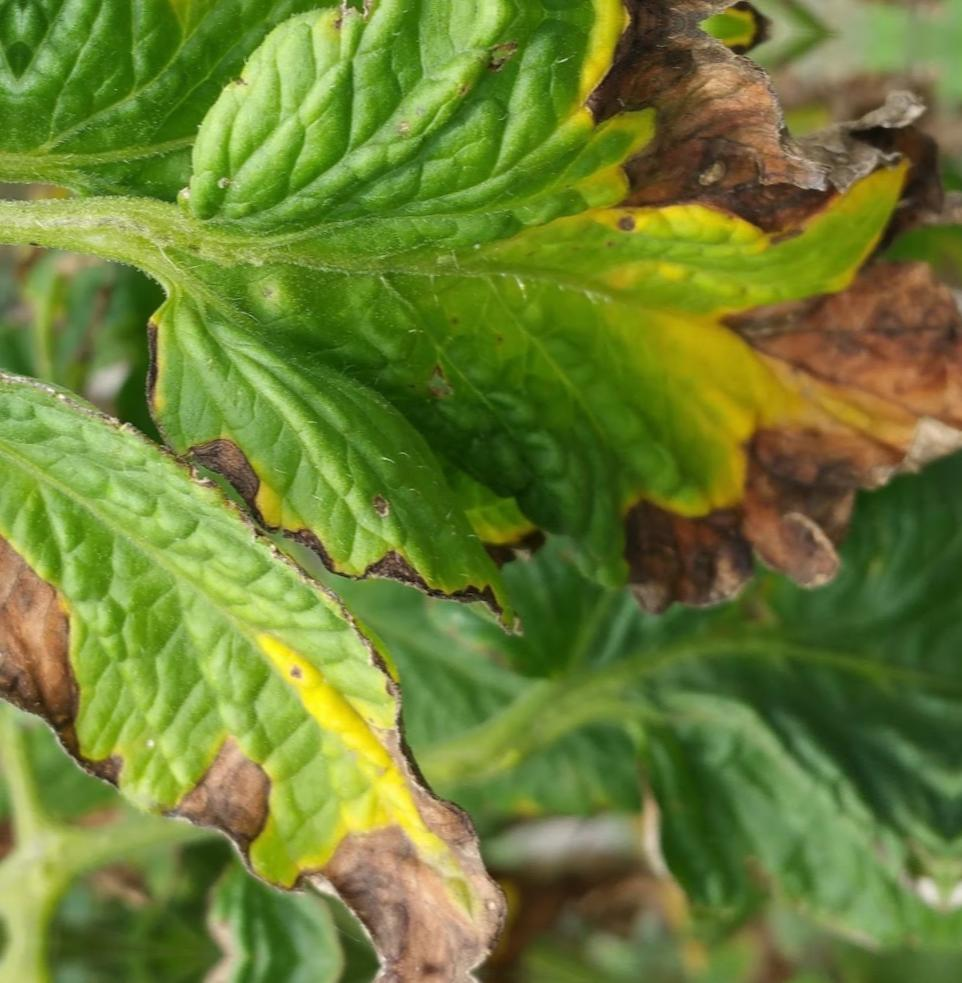Tomato leaf bacterial spot: (91, 0, 962, 624), (0, 328, 565, 977), (6, 0, 789, 293)
